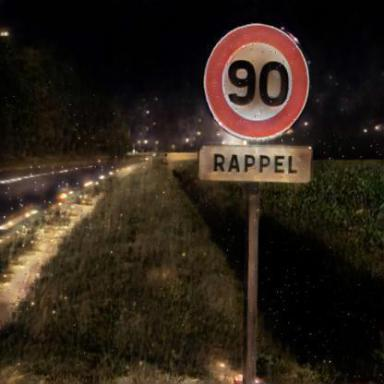Speed_limit_90: (205, 30, 308, 136)
